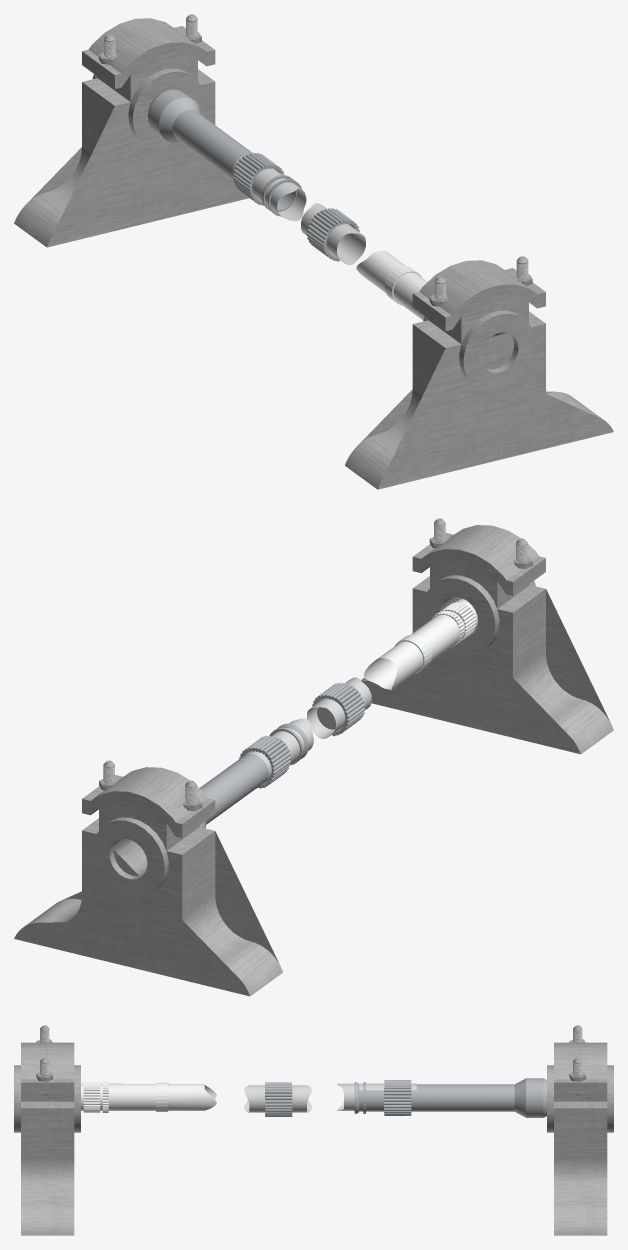
3 views of the same model, one above another, from view 1: azimuth 30°, elevation 25°; view 2: azimuth 150°, elevation 25°; view 3: azimuth 270°, elevation 25° (orthographic). The views are drawn at different scales.
Visible parts, largest first — view 1: mount.001, mount, 1, 6.002, 7; view 2: mount, mount.001, 1, 7, 6.002; view 3: mount, mount.001, 1, 7, 6.002.
Boxes of the visible parts, left/top/right/bottom form: mount.001: left=345, top=256, right=613, bottom=489; mount: left=14, top=14, right=249, bottom=247; 1: left=148, top=89, right=306, bottom=221; 6.002: left=301, top=203, right=365, bottom=264; 7: left=356, top=250, right=427, bottom=320; mount: left=14, top=760, right=282, bottom=996; mount.001: left=361, top=518, right=613, bottom=754; 1: left=199, top=718, right=313, bottom=828; 7: left=363, top=599, right=477, bottom=689; 6.002: left=307, top=677, right=371, bottom=738; mount: left=547, top=1025, right=613, bottom=1235; mount.001: left=14, top=1025, right=80, bottom=1235; 1: left=337, top=1078, right=546, bottom=1117; 7: left=81, top=1082, right=216, bottom=1112; 6.002: left=244, top=1082, right=311, bottom=1116.
Bounding box in the file's own units: 197 × 145 × 538.
4 materials, 2 textured.
